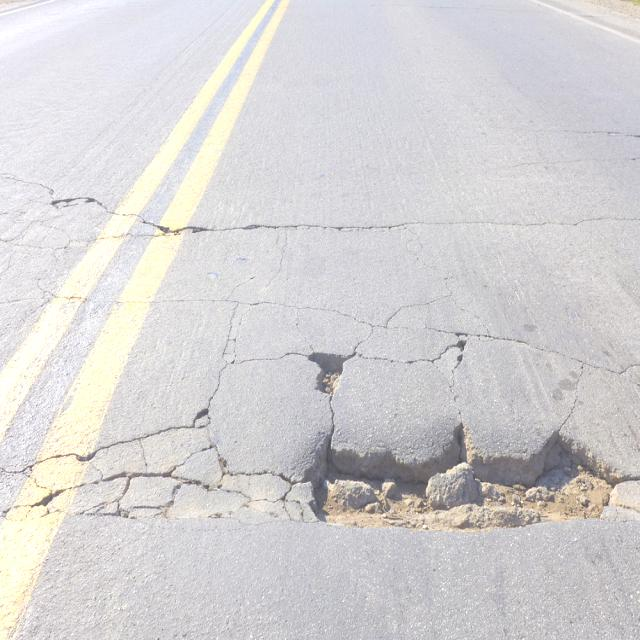Pothole: (21, 190, 640, 564)
